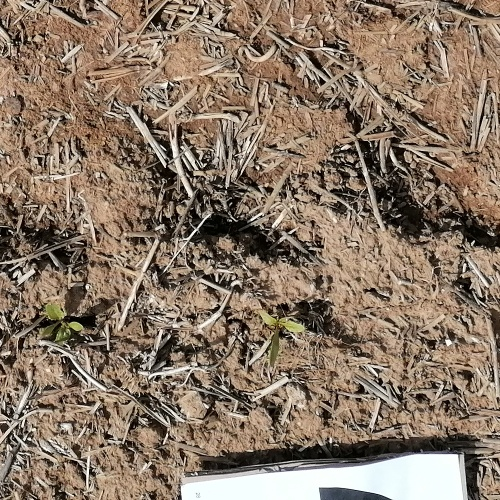beet: (259, 309, 304, 368), (36, 300, 86, 345)
